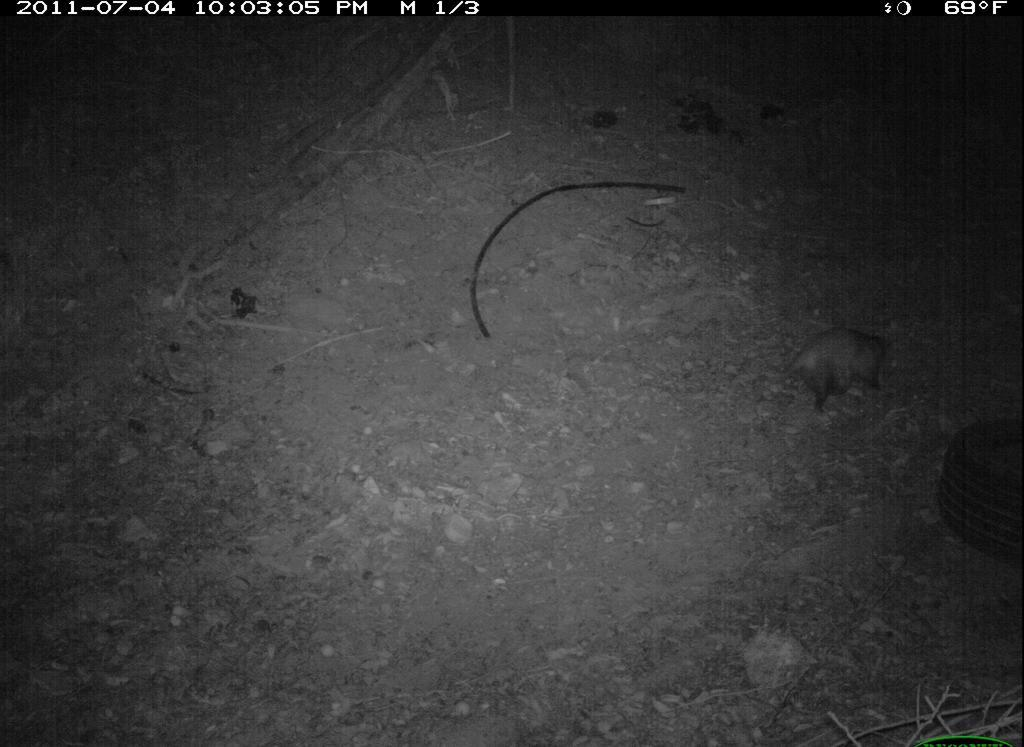opossum: (763, 308, 894, 432)
